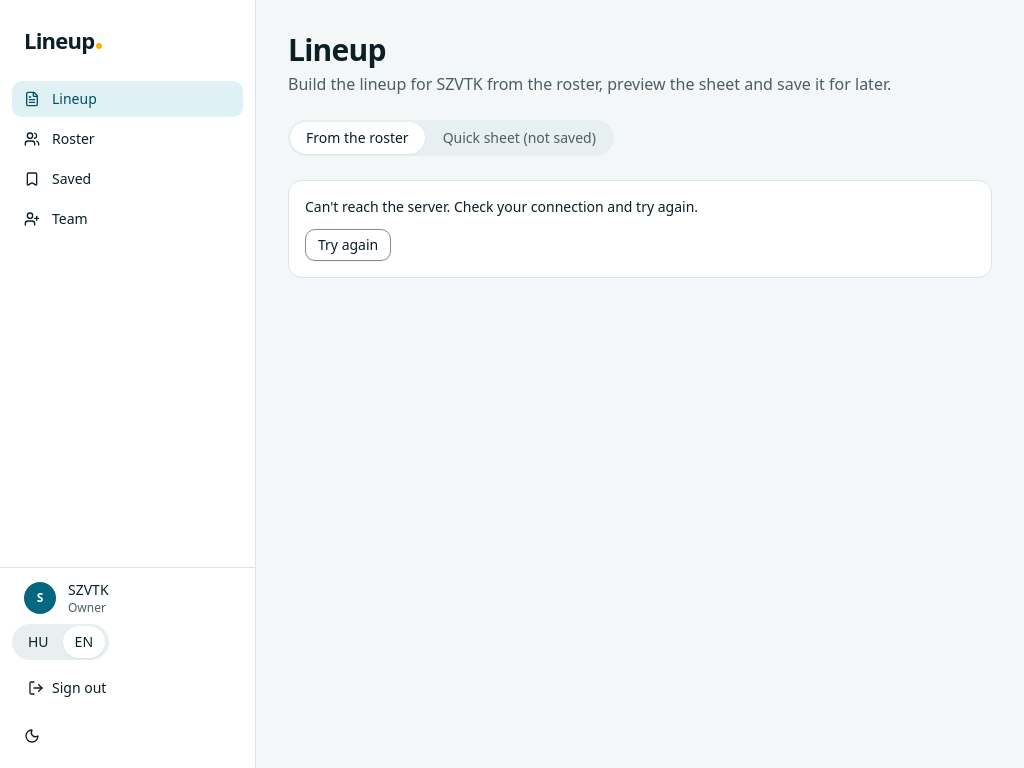
members list › is reachable from the navigation
The width and height of the screenshot is (1024, 768).
Click the link "Team".
click(56, 218)  # box [24,209,88,228]
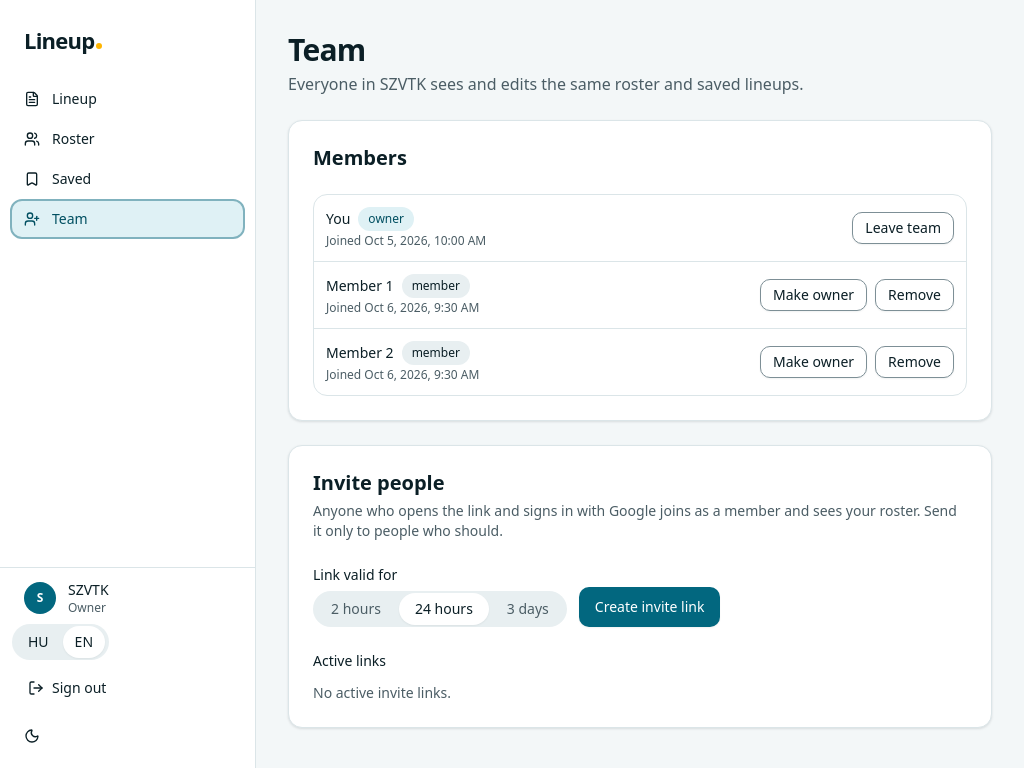
Check: the heading "Team" is shown, box [288,29,366,70]
